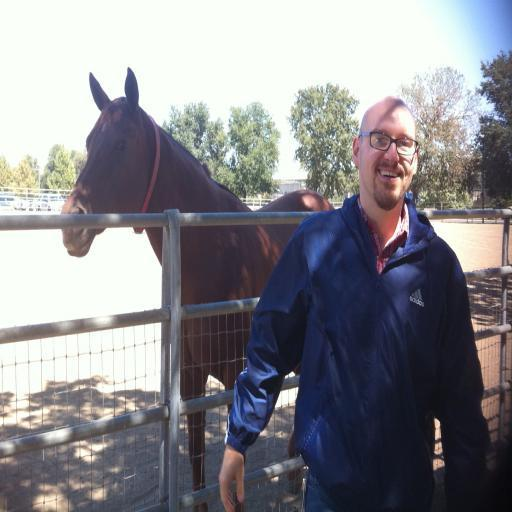horse: (58, 67, 337, 512)
